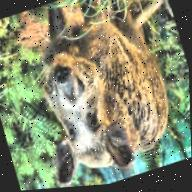boar: (10, 0, 185, 191)
